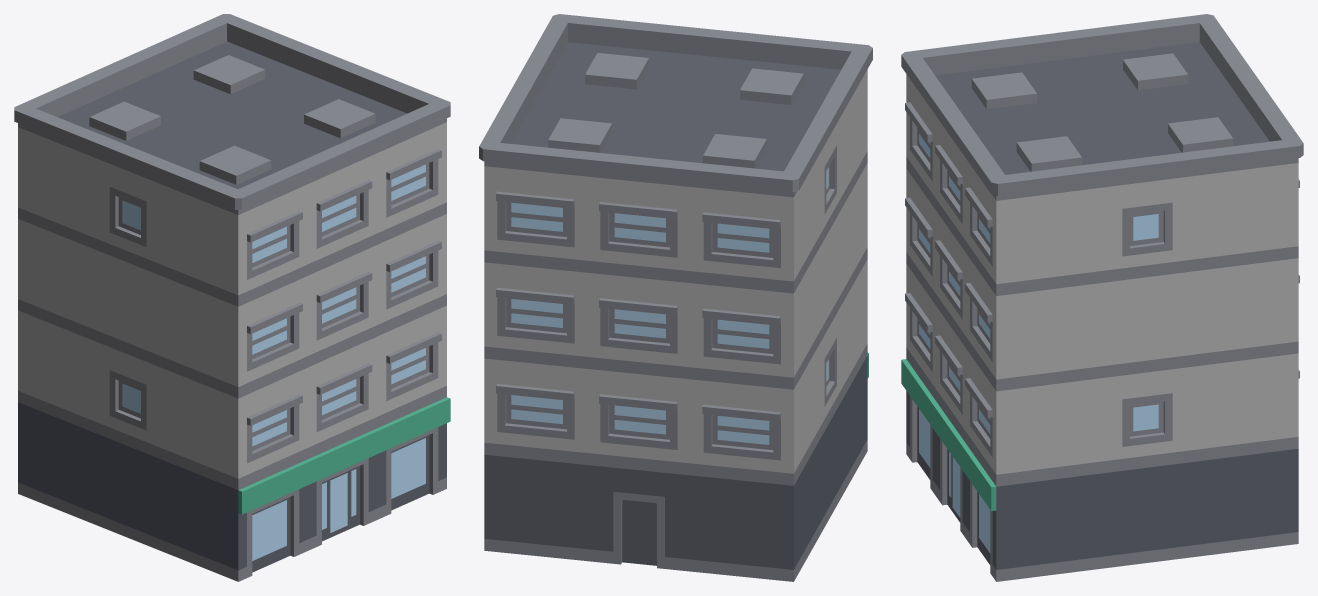
File: large_buildingD.obj
3 renders of one model, left to right at view 1: azimuth 30°, elevation 25°; view 2: azimuth 150°, elevation 25°; view 3: azimuth 270°, elevation 25°, orthographic. The views are drawn at different scales.
Parts seen in each view (by area): view 1: large_buildingD.001; view 2: large_buildingD.001; view 3: large_buildingD.001.
Part boxes in pixels (bbox=[...]): large_buildingD.001: bbox=[14, 14, 450, 581]; large_buildingD.001: bbox=[479, 14, 872, 581]; large_buildingD.001: bbox=[901, 14, 1303, 581].
Bounding box in the file's own units: 27.95 × 30.67 × 27.95.
